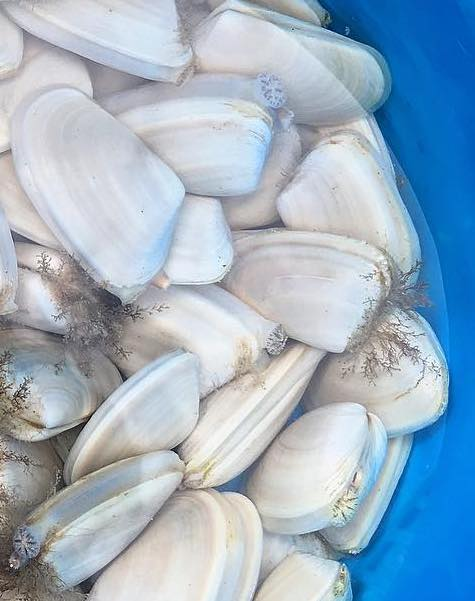tuatua: (11, 83, 184, 296), (188, 1, 396, 131), (280, 129, 425, 290), (17, 447, 180, 582), (230, 225, 391, 359), (191, 332, 323, 493), (102, 77, 277, 197), (247, 404, 389, 543), (98, 483, 259, 601), (1, 2, 202, 87), (325, 301, 448, 433), (120, 284, 269, 386), (71, 348, 201, 464), (1, 318, 120, 443), (13, 239, 103, 343), (177, 194, 234, 287)
